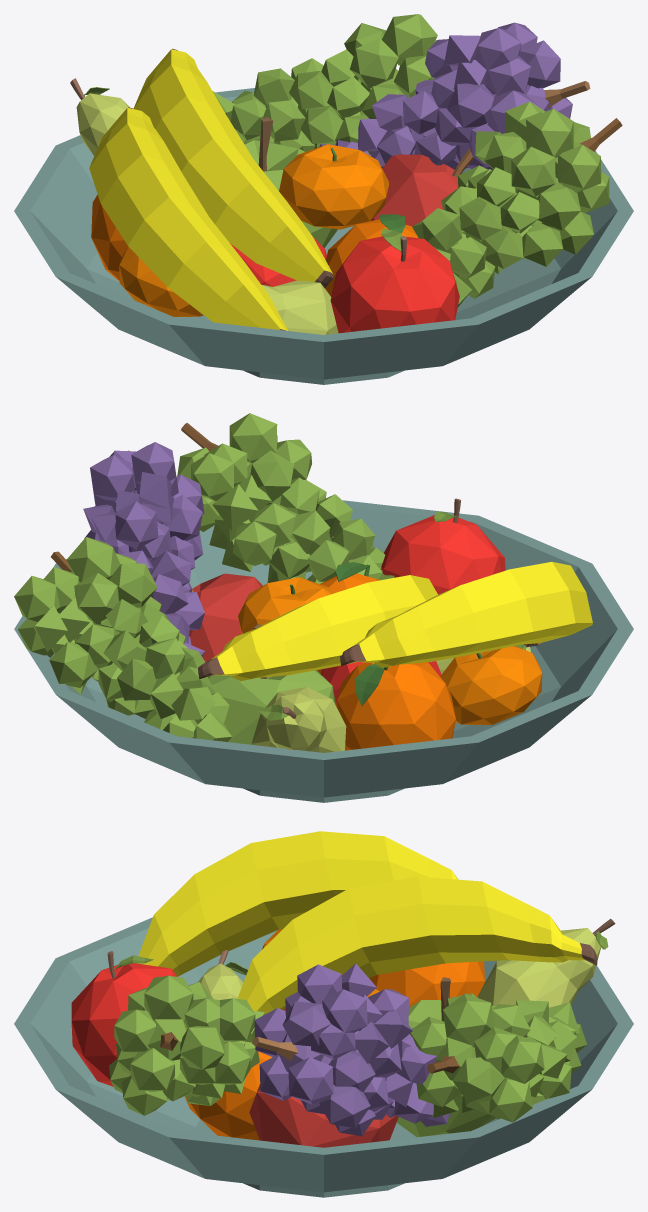
Rendered from Fruits_plate_01.fbx.
The picture shows the model from 3 angles, top to bottom: view 1: azimuth 30°, elevation 25°; view 2: azimuth 150°, elevation 25°; view 3: azimuth 270°, elevation 25°; orthographic projection.
Visible parts, largest first — view 1: Fruits_plate_01; view 2: Fruits_plate_01; view 3: Fruits_plate_01.
Part boxes in pixels (x1,y1,x2,y2): Fruits_plate_01: [14, 14, 633, 384]; Fruits_plate_01: [14, 413, 633, 802]; Fruits_plate_01: [14, 831, 633, 1197].
Size of the model in its own units: 47.71 by 22.32 by 47.71.
